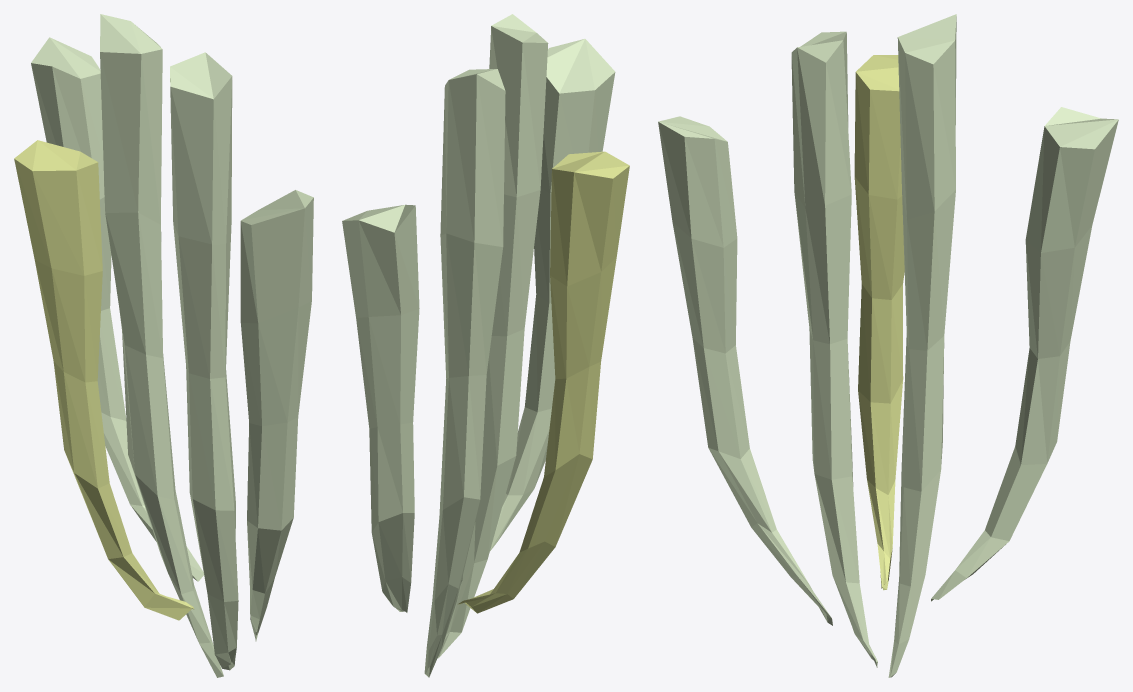
Rendered from more_trava_2.glb.
The picture shows the model from 3 angles, left to right: view 1: azimuth 30°, elevation 25°; view 2: azimuth 150°, elevation 25°; view 3: azimuth 270°, elevation 25°; orthographic projection. The views are drawn at different scales.
Parts seen in each view (by area): view 1: more_trava_2; view 2: more_trava_2; view 3: more_trava_2.
Boxes of the visible parts, <box> form: more_trava_2: <box>14,14,313,677</box>; more_trava_2: <box>342,14,629,677</box>; more_trava_2: <box>658,14,1118,677</box>.
Bounding box in the file's own units: 0.5936 × 1.82 × 1.22.
Materials: 1 (1 with a texture image).
